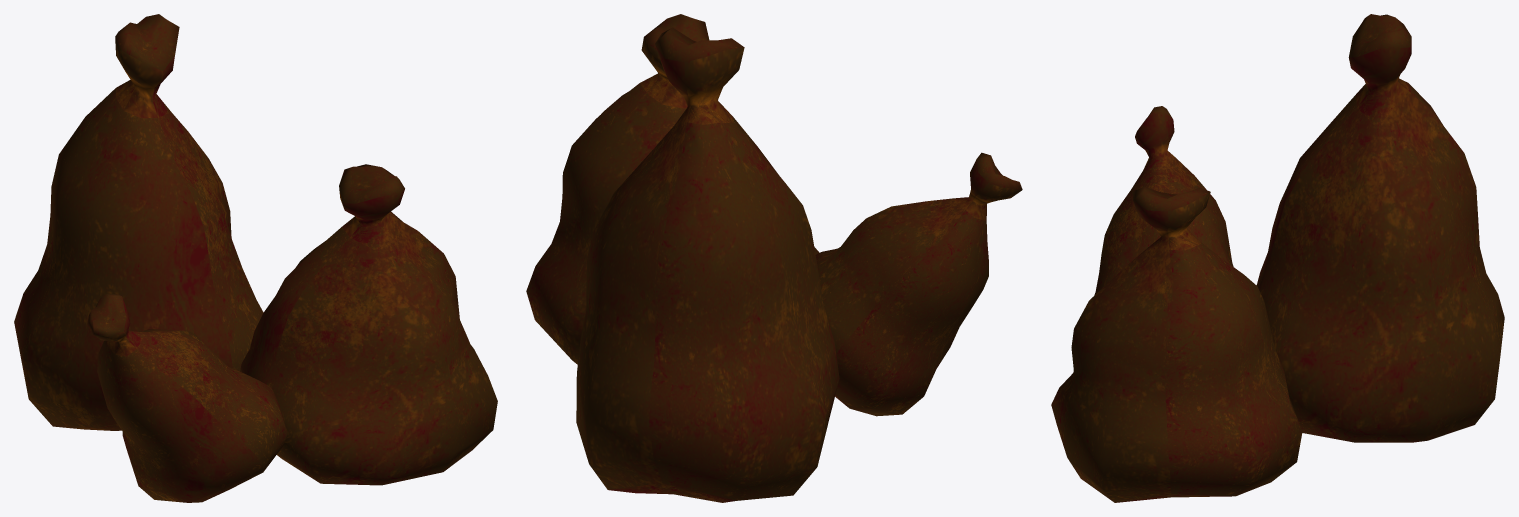
Rendered from SM_garbagebag_pile.fbx.
3 views of the same model, side by side, from view 1: azimuth 30°, elevation 25°; view 2: azimuth 150°, elevation 25°; view 3: azimuth 270°, elevation 25° (orthographic). The views are drawn at different scales.
Parts seen in each view (by area): view 1: SM_garbagebag_pile; view 2: SM_garbagebag_pile; view 3: SM_garbagebag_pile.
Part boxes in pixels (box(x1,y1,x2,y2)): SM_garbagebag_pile: box(14, 14, 497, 502); SM_garbagebag_pile: box(526, 14, 1022, 502); SM_garbagebag_pile: box(1051, 14, 1504, 502).
Bounding box in the file's own units: 237 × 223 × 229.
